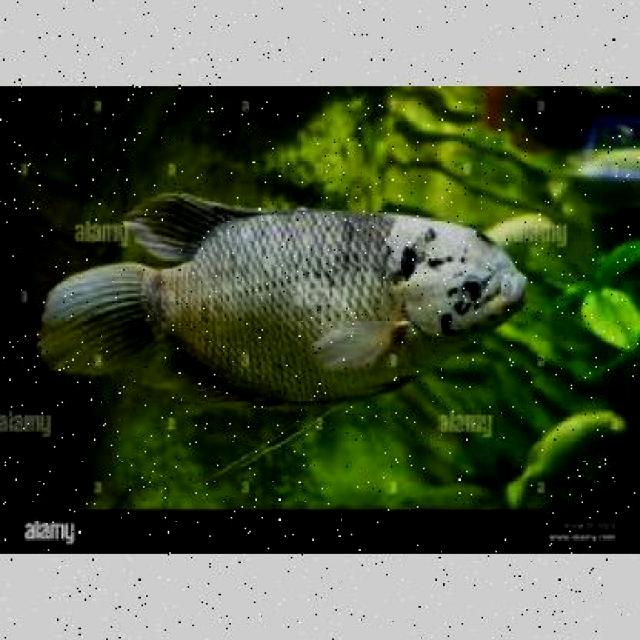gurame: (43, 194, 526, 406)
